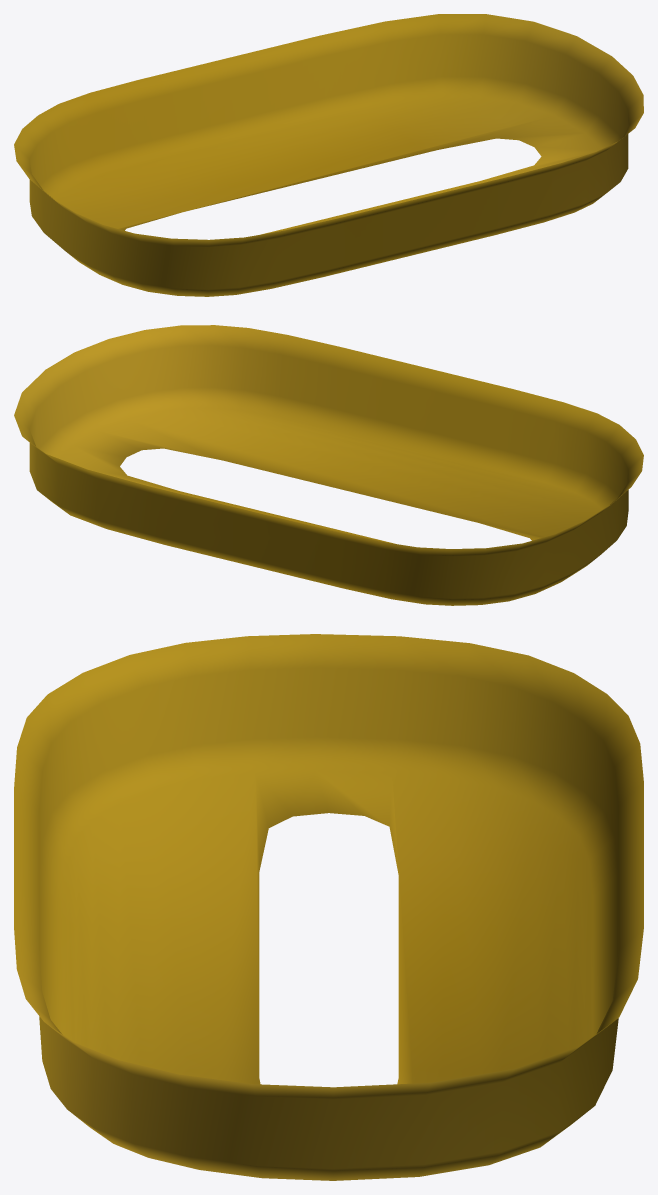
The model's file is original-172.obj.
3 renders of one model, top to bottom at view 1: azimuth 30°, elevation 25°; view 2: azimuth 150°, elevation 25°; view 3: azimuth 270°, elevation 25°, orthographic. The views are drawn at different scales.
Visible parts, largest first — view 1: #ID1148; view 2: #ID1148; view 3: #ID1148.
Boxes of the visible parts, x1=… form: #ID1148: x1=14, y1=14, x2=643, y2=296; #ID1148: x1=14, y1=325, x2=643, y2=605; #ID1148: x1=14, y1=634, x2=643, y2=1180.
Size of the model in its own units: 0.0203 by 0.00241 by 0.0119.
1 material, 1 textured.
